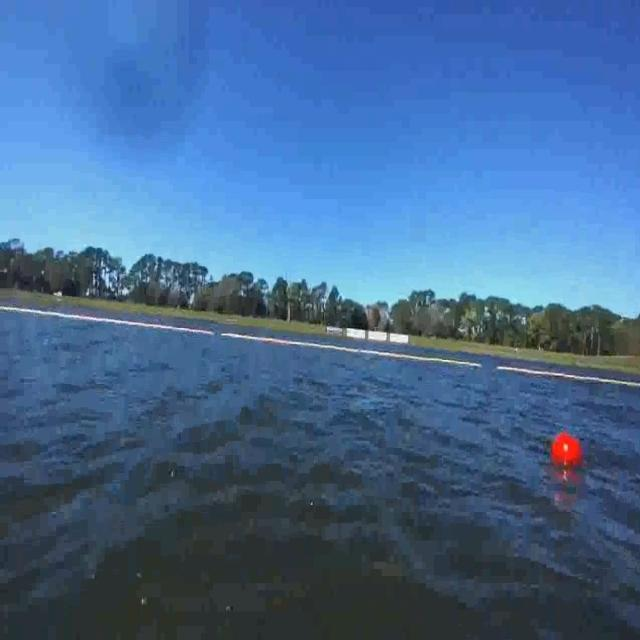red-buoy: (552, 434, 583, 468)
